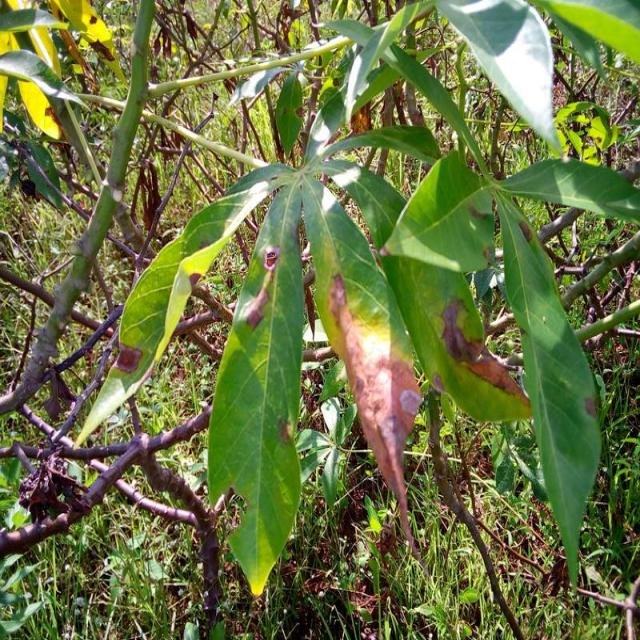cassava leaf: (70, 163, 293, 449), (301, 173, 428, 574), (492, 182, 602, 590), (378, 148, 532, 424), (206, 173, 304, 596), (434, 0, 564, 156)
